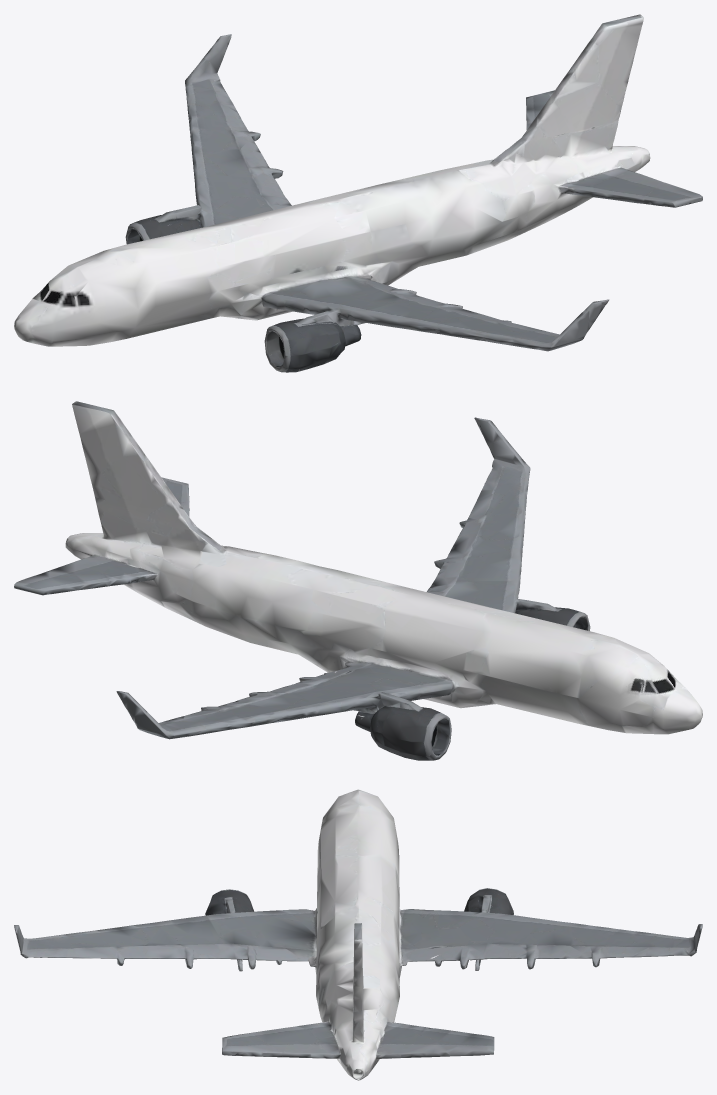
File: airliner.glb
3 renders of one model, top to bottom at view 1: azimuth 30°, elevation 25°; view 2: azimuth 150°, elevation 25°; view 3: azimuth 270°, elevation 25°, orthographic. The views are drawn at different scales.
Size of the model in its own units: 1.87 by 0.5747 by 1.9.
Materials: 1 (1 with a texture image).
